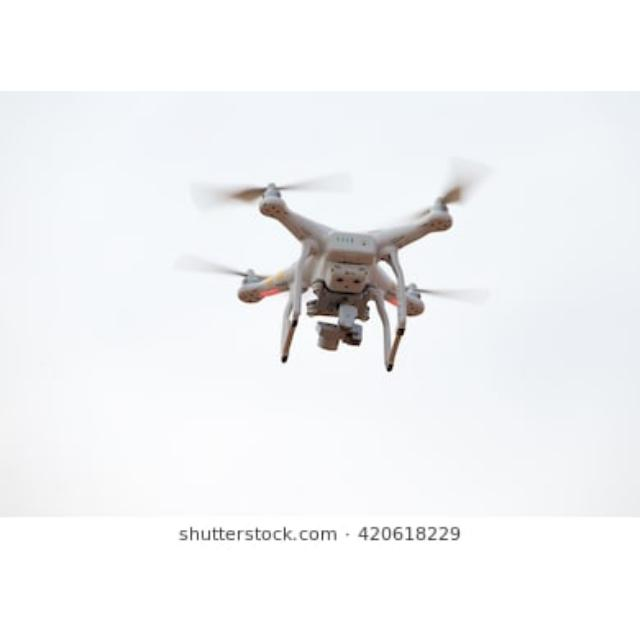Drones: (218, 169, 462, 371)
